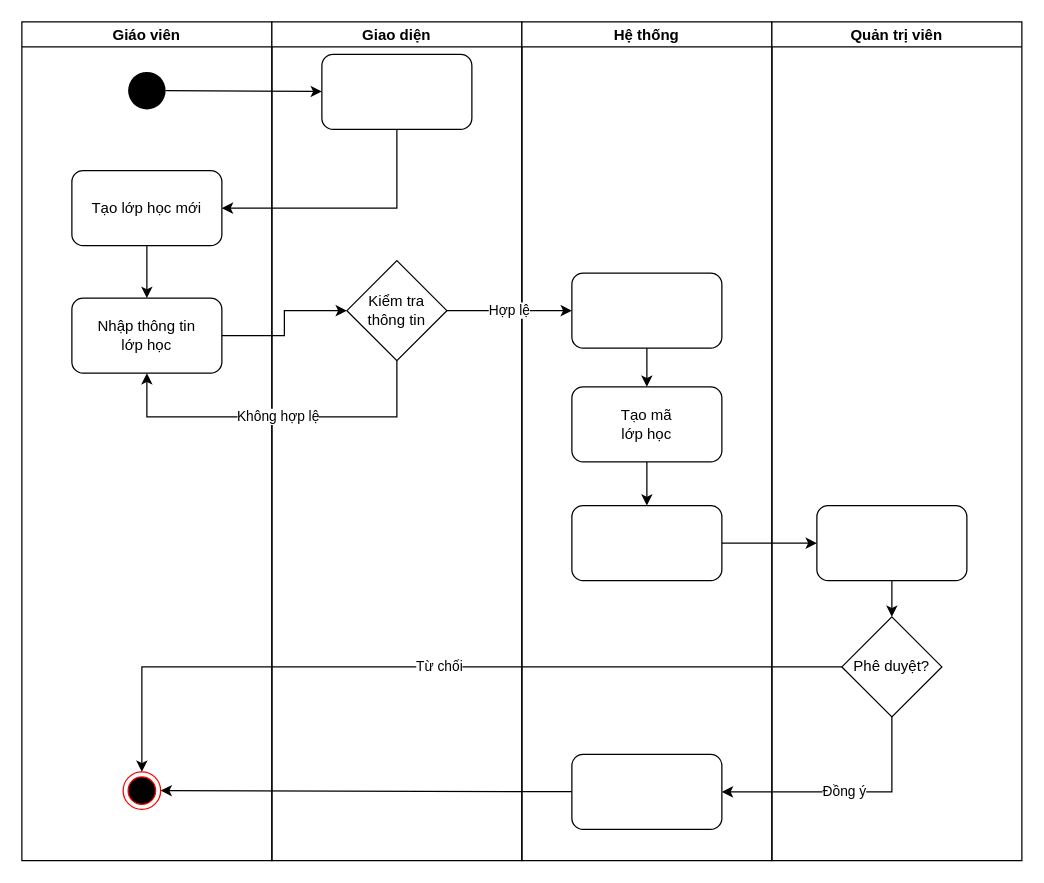
This 1044x883 diagram has some shape labels left out. Here are the shapes that lost their labels. From the top down, the centre of each, then its label:
At (x=396, y=91): "Hiển thị form tạo lớp".
At (x=646, y=310): "Lưu thông tin lớp học".
At (x=646, y=542): "Đặt trạng thái Pending".
At (x=891, y=542): "Xem xét lớp học".
At (x=646, y=791): "Đặt trạng thái Approved".
